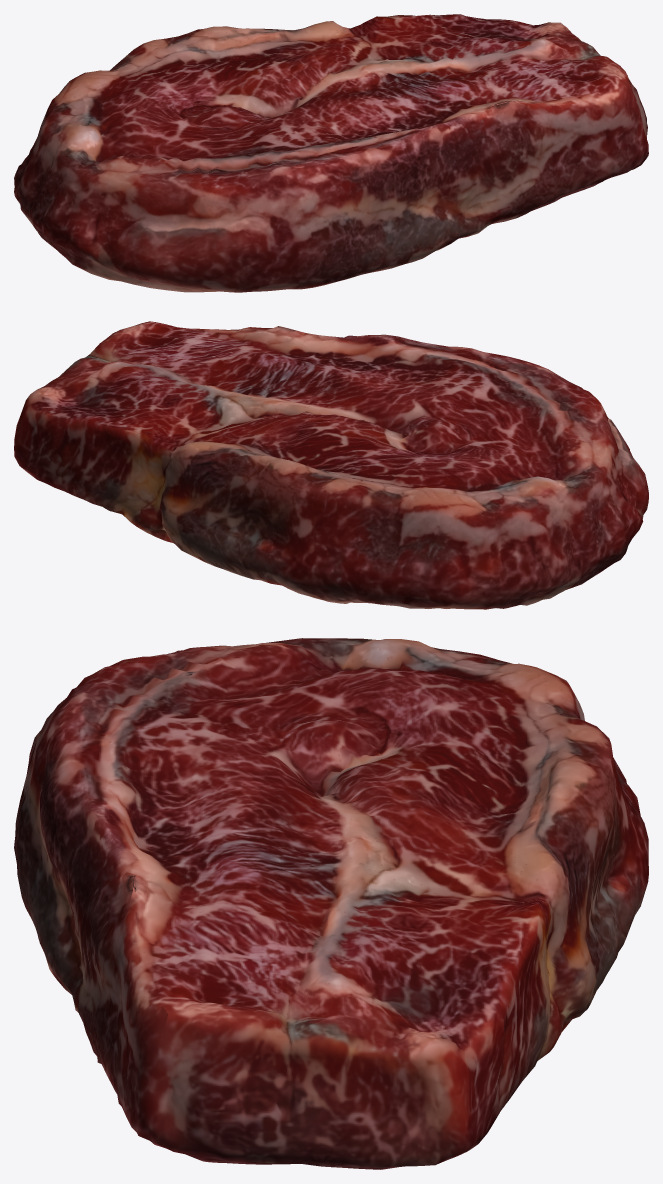
3 renders of one model, top to bottom at view 1: azimuth 30°, elevation 25°; view 2: azimuth 150°, elevation 25°; view 3: azimuth 270°, elevation 25°, orthographic. The views are drawn at different scales.
Visible parts, largest first — view 1: Low Poli - 2; view 2: Low Poli - 2; view 3: Low Poli - 2.
Boxes of the visible parts, x1=… form: Low Poli - 2: x1=14, y1=14, x2=648, y2=292; Low Poli - 2: x1=14, y1=321, x2=648, y2=609; Low Poli - 2: x1=14, y1=638, x2=648, y2=1169.
Size of the model in its own units: 99.37 by 20.09 by 63.32.
